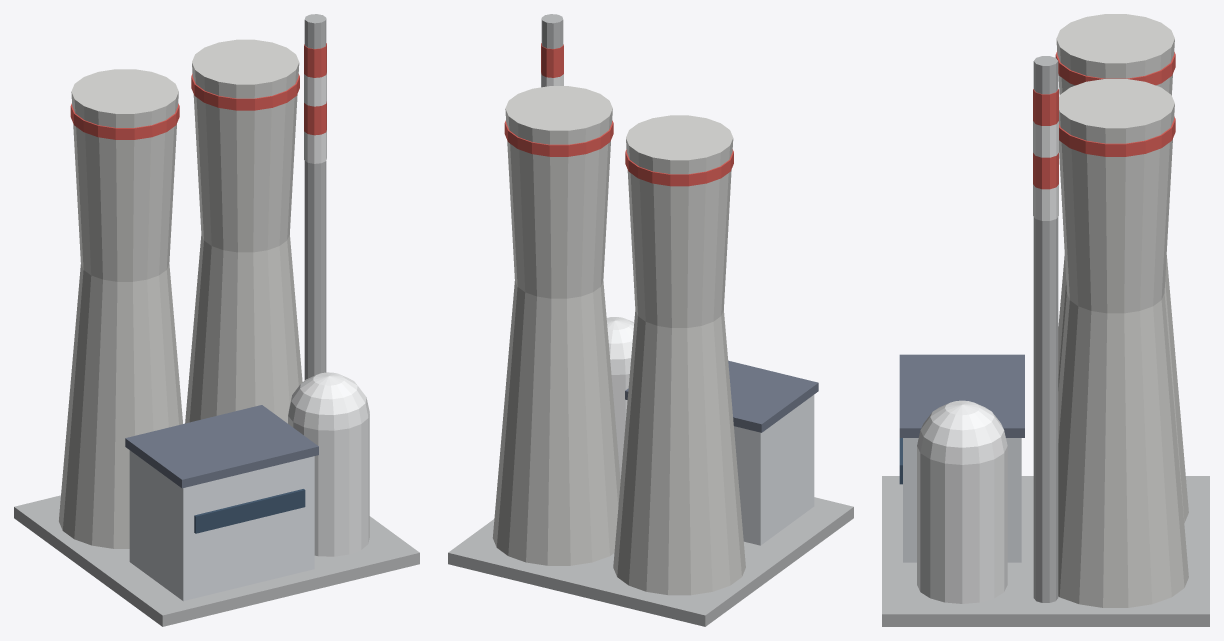
The model's file is cooling_plant.glb.
3 renders of one model, left to right at view 1: azimuth 30°, elevation 25°; view 2: azimuth 150°, elevation 25°; view 3: azimuth 270°, elevation 25°, orthographic. The views are drawn at different scales.
Parts seen in each view (by area): view 1: cooling_plant_body; view 2: cooling_plant_body; view 3: cooling_plant_body.
Part boxes in pixels (bbox=[...]): cooling_plant_body: bbox=[14, 14, 419, 626]; cooling_plant_body: bbox=[448, 14, 853, 626]; cooling_plant_body: bbox=[882, 14, 1209, 626].
Bounding box in the file's own units: 0.94 × 1.74 × 0.94.
